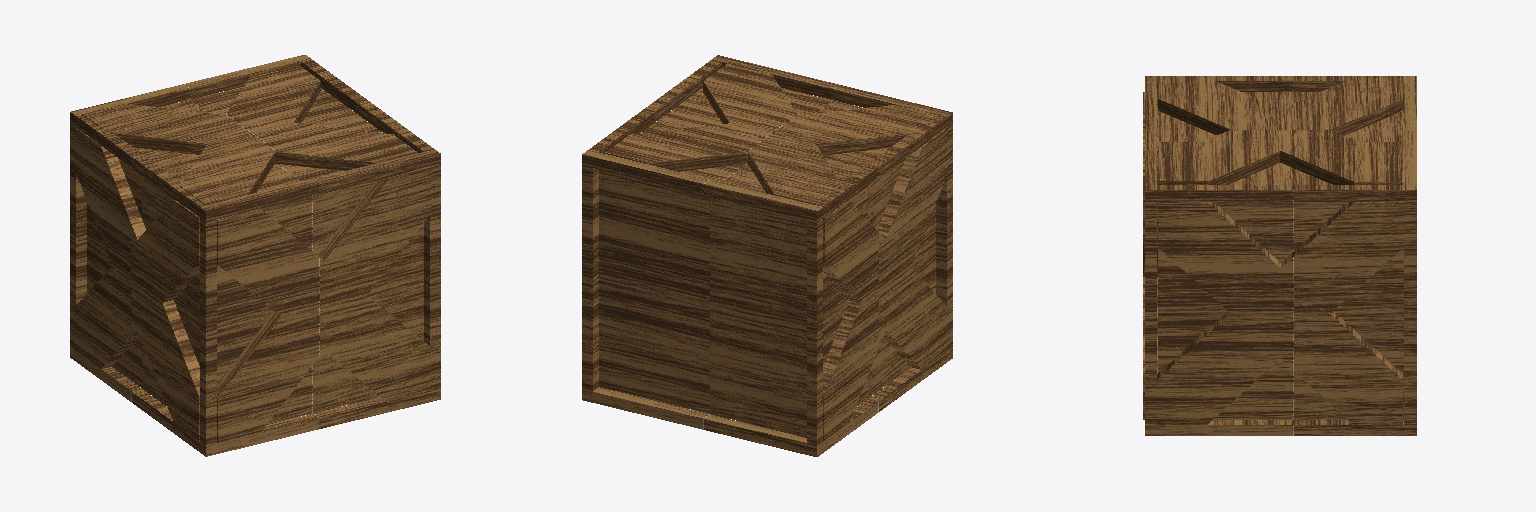
3 views of the same model, side by side, from view 1: azimuth 30°, elevation 25°; view 2: azimuth 150°, elevation 25°; view 3: azimuth 270°, elevation 25° (orthographic).
Visible parts, largest first — view 1: Copy of crate (2); view 2: Copy of crate (2); view 3: Copy of crate (2).
Boxes of the visible parts, x1,y1,x2,y2 form: Copy of crate (2): [70, 55, 440, 456]; Copy of crate (2): [582, 55, 952, 456]; Copy of crate (2): [1143, 76, 1416, 435].
Size of the model in its own units: 221 by 221 by 221.
1 materials, 1 textured.